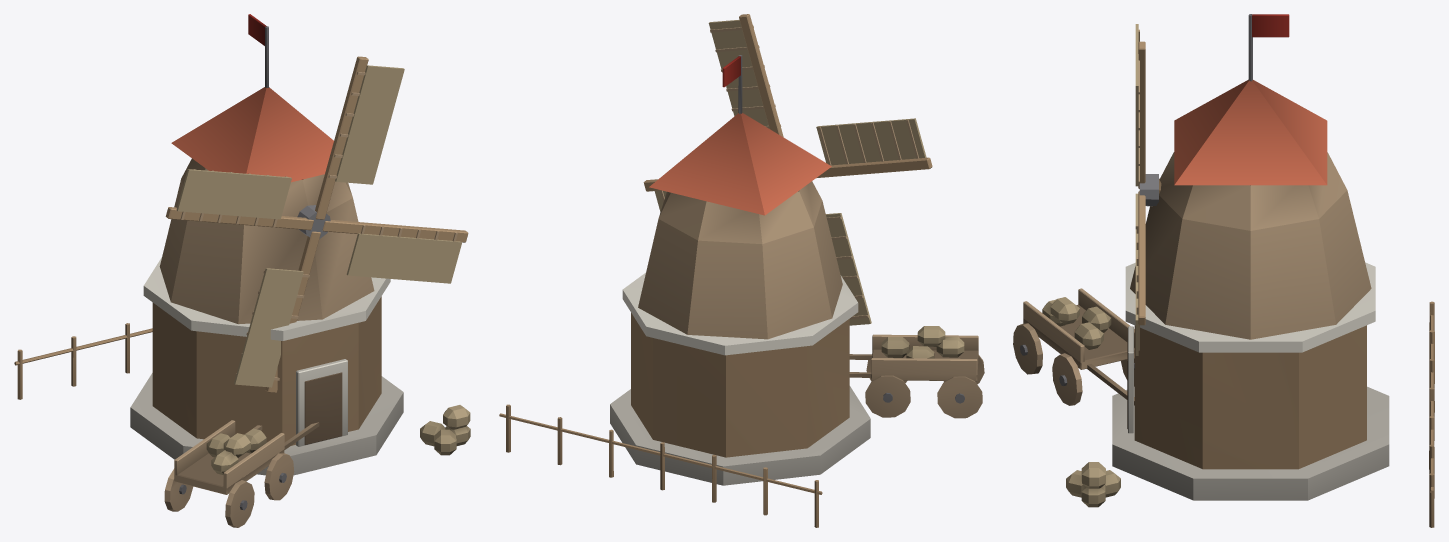
File: bld_melnica_e1.glb
The picture shows the model from 3 angles, left to right: view 1: azimuth 30°, elevation 25°; view 2: azimuth 150°, elevation 25°; view 3: azimuth 270°, elevation 25°; orthographic projection. The views are drawn at different scales.
Parts seen in each view (by area): view 1: melnica, melnica_kryla; view 2: melnica, melnica_kryla; view 3: melnica, melnica_kryla.
Boxes of the visible parts, box(x1,y1,x2,y2) form: melnica: box(14, 14, 470, 527); melnica_kryla: box(165, 56, 468, 392); melnica: box(499, 55, 984, 527); melnica_kryla: box(643, 14, 932, 325); melnica: box(1013, 14, 1434, 527); melnica_kryla: box(1135, 24, 1158, 355).
Size of the model in its own units: 1.8 by 1.95 by 1.75.
